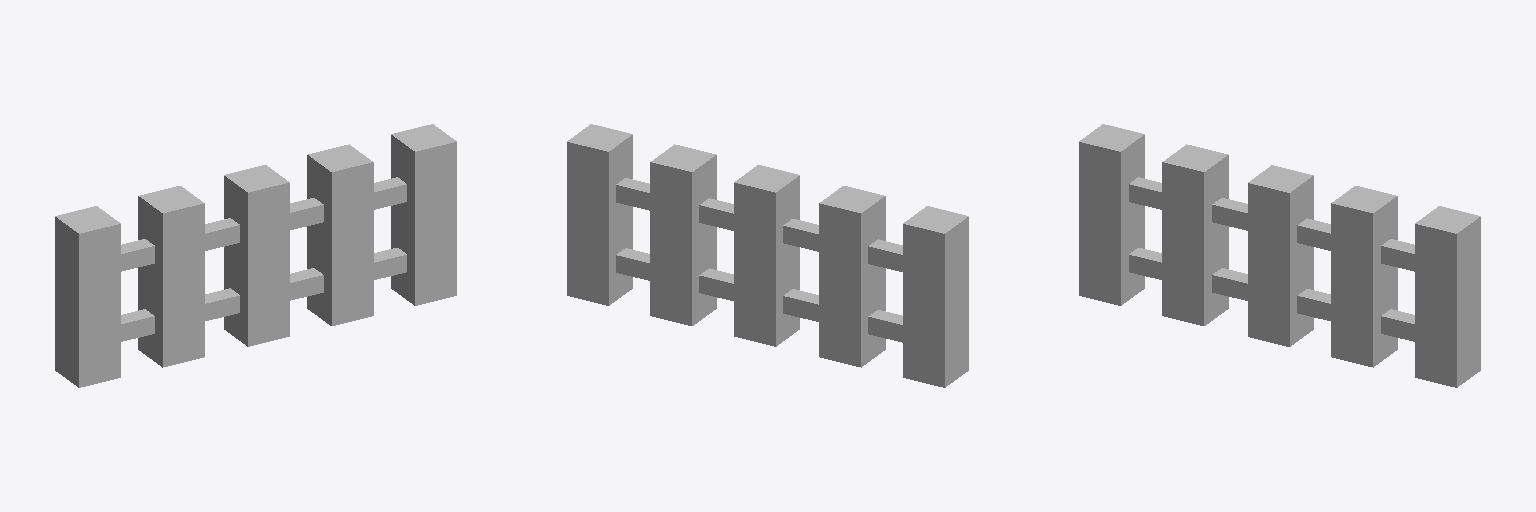
Rendered from Vallas5.obj.
3 views of the same model, side by side, from view 1: azimuth 30°, elevation 25°; view 2: azimuth 150°, elevation 25°; view 3: azimuth 330°, elevation 25° (orthographic).
Visible parts, largest first — view 1: 5_Trasversal; view 2: 5_Trasversal; view 3: 5_Trasversal.
Boxes of the visible parts, x1=… form: 5_Trasversal: x1=55, y1=124, x2=456, y2=387; 5_Trasversal: x1=567, y1=124, x2=968, y2=387; 5_Trasversal: x1=1079, y1=124, x2=1480, y2=387.
Size of the model in its own units: 17.99 by 7.01 by 2.